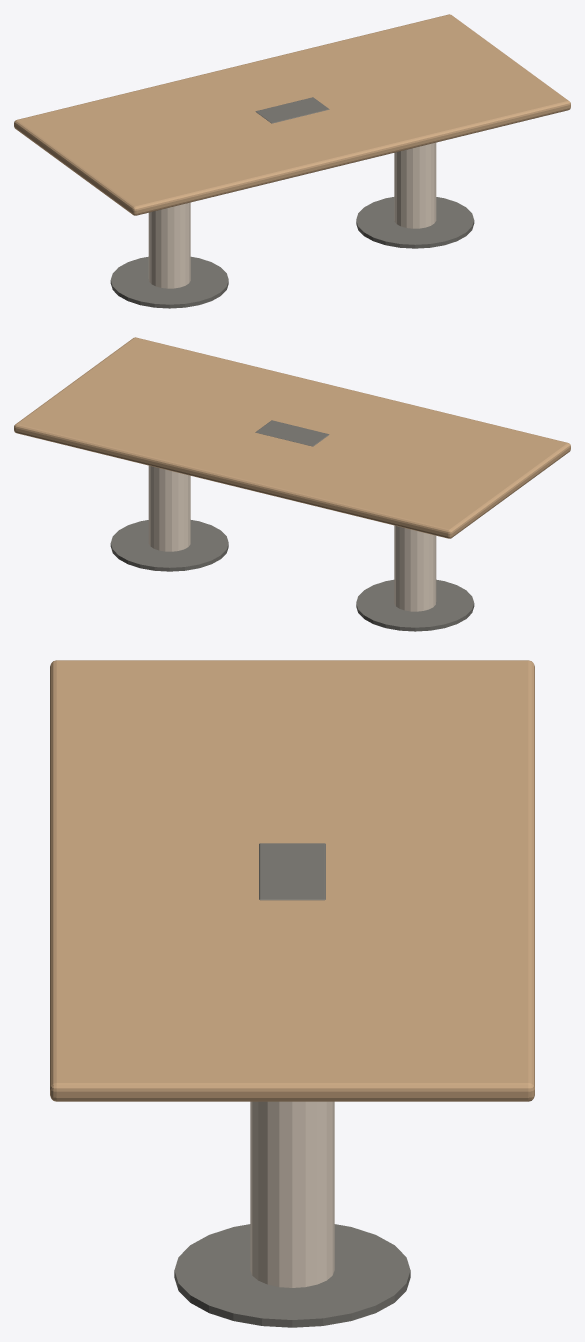
The model's file is meeting_rooms___private_spaces_catalog_71.glb.
3 renders of one model, top to bottom at view 1: azimuth 30°, elevation 25°; view 2: azimuth 150°, elevation 25°; view 3: azimuth 270°, elevation 25°, orthographic. The views are drawn at different scales.
Parts seen in each view (by area): view 1: Cube; view 2: Cube; view 3: Cube.
Part boxes in pixels (x1=…): Cube: x1=14, y1=14, x2=570, y2=308; Cube: x1=14, y1=337, x2=570, y2=631; Cube: x1=50, y1=660, x2=534, y2=1327.
Size of the model in its own units: 2.4 by 0.751 by 1.15.
